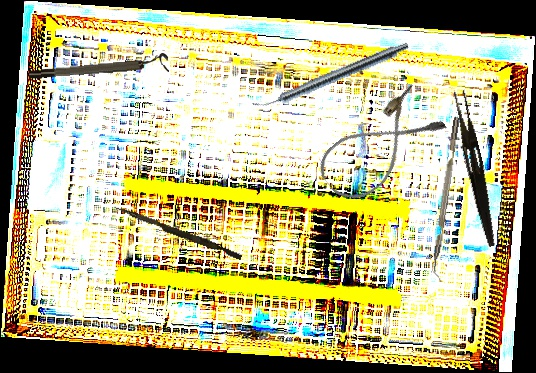Cannula: (311, 82, 449, 211)
Chopper: (428, 116, 468, 283)
Dressing Forceps: (448, 89, 503, 248)
Fixation Ring: (28, 52, 169, 82)
Handpiece: (251, 37, 411, 116)
Pusher: (111, 204, 244, 261)
